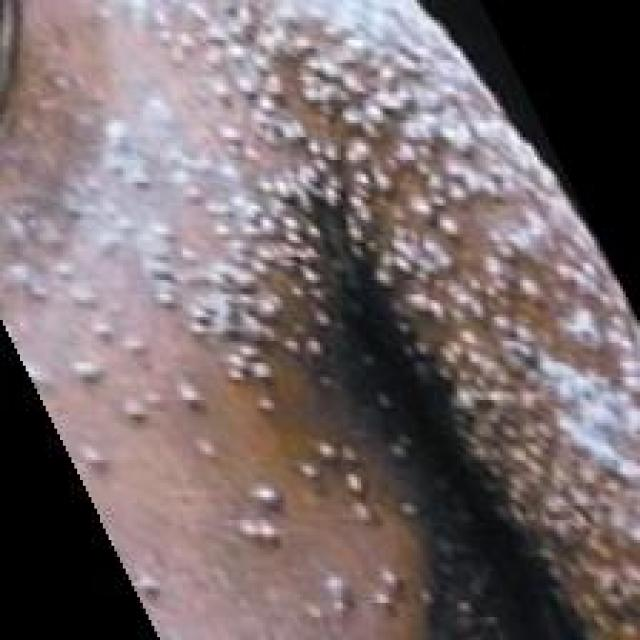monkeypox: (25, 0, 637, 614)
